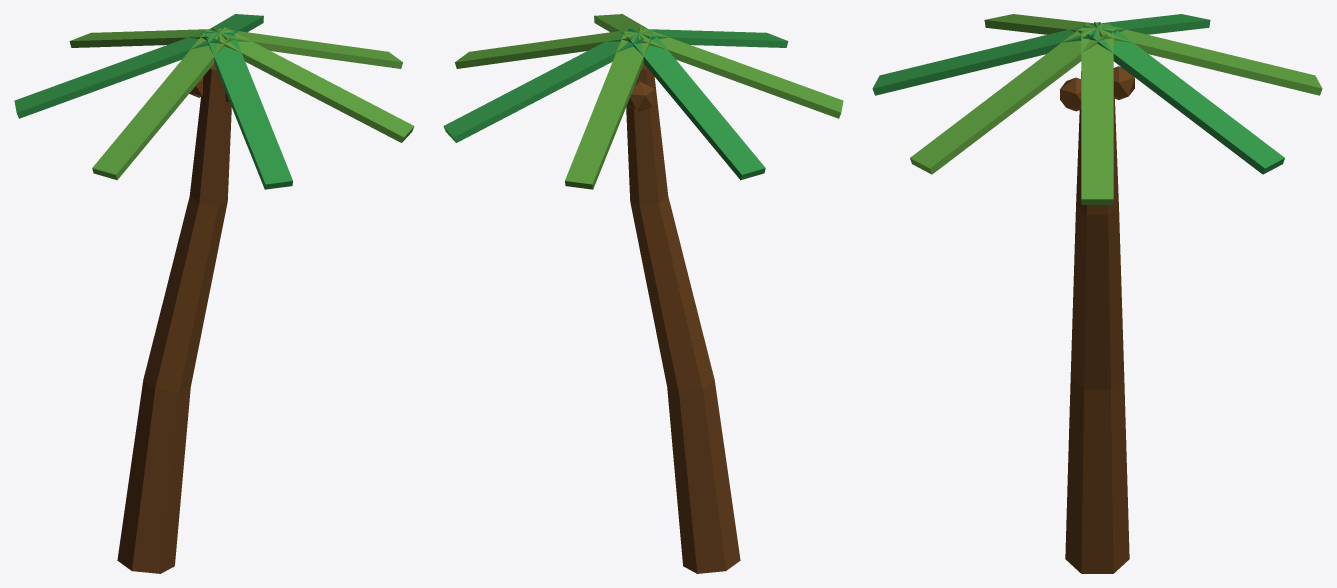
The model's file is palm_tree.glb.
The picture shows the model from 3 angles, left to right: view 1: azimuth 30°, elevation 25°; view 2: azimuth 150°, elevation 25°; view 3: azimuth 270°, elevation 25°; orthographic projection. The views are drawn at different scales.
Parts seen in each view (by area): view 1: palm_tree; view 2: palm_tree; view 3: palm_tree.
Part boxes in pixels (left/top/right/bottom): palm_tree: left=14, top=14, right=414, bottom=573; palm_tree: left=443, top=14, right=843, bottom=573; palm_tree: left=872, top=14, right=1322, bottom=573.
Bounding box in the file's own units: 1.64 × 2.36 × 1.68.
